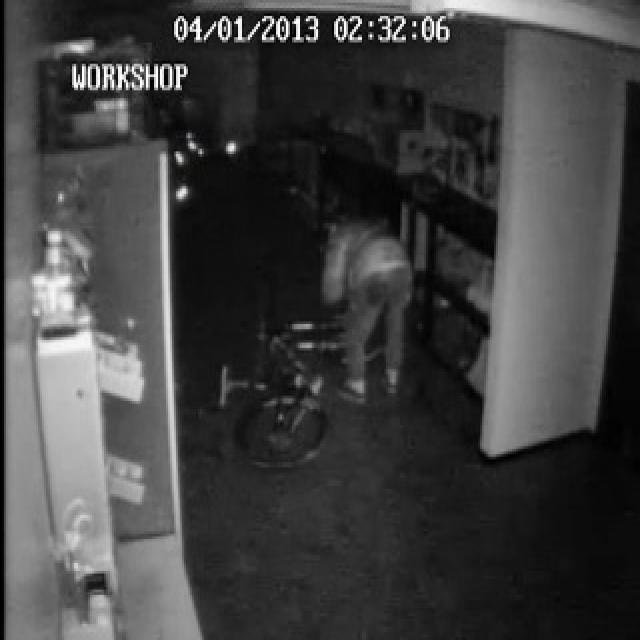thief: (315, 205, 412, 382)
